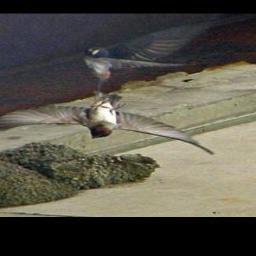Swallow: (0, 89, 219, 157)
